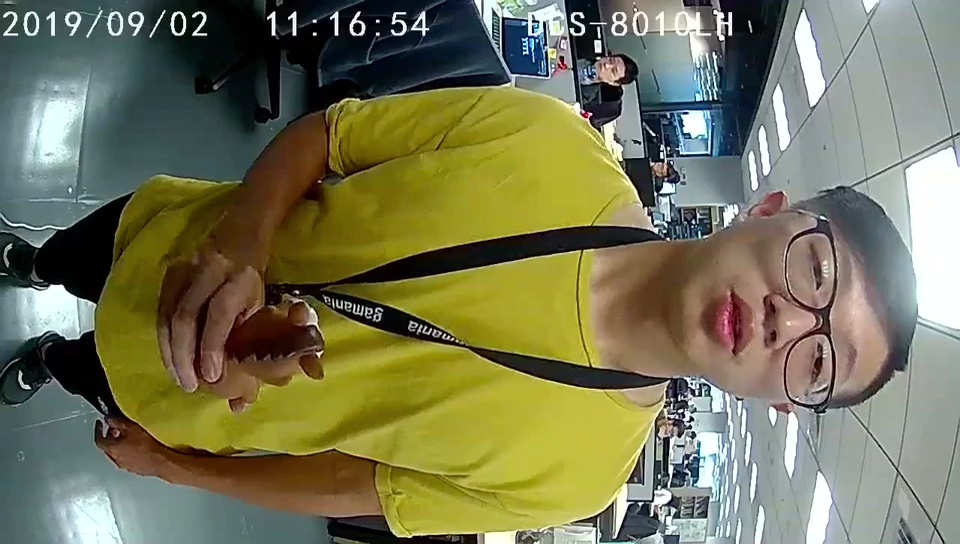horse: (231, 302, 325, 404)
